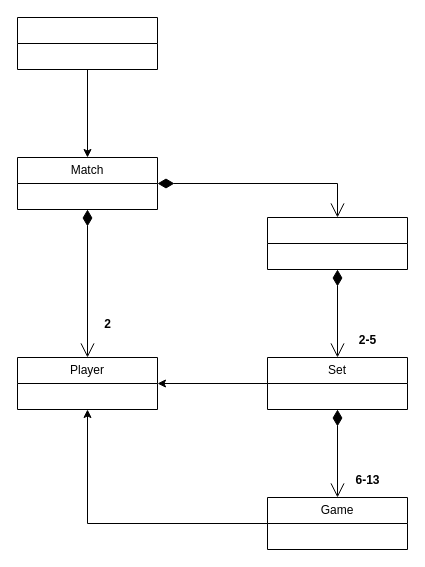
The diagram is 425 pixels wide and 567 high, and some of its shapes have lost their labels. The shapes that lost their labels are listed below. From the top down, each one's centre as x and y in pixels, then its label:
At point (87, 43): "Score Board".
At point (337, 243): "Score".
